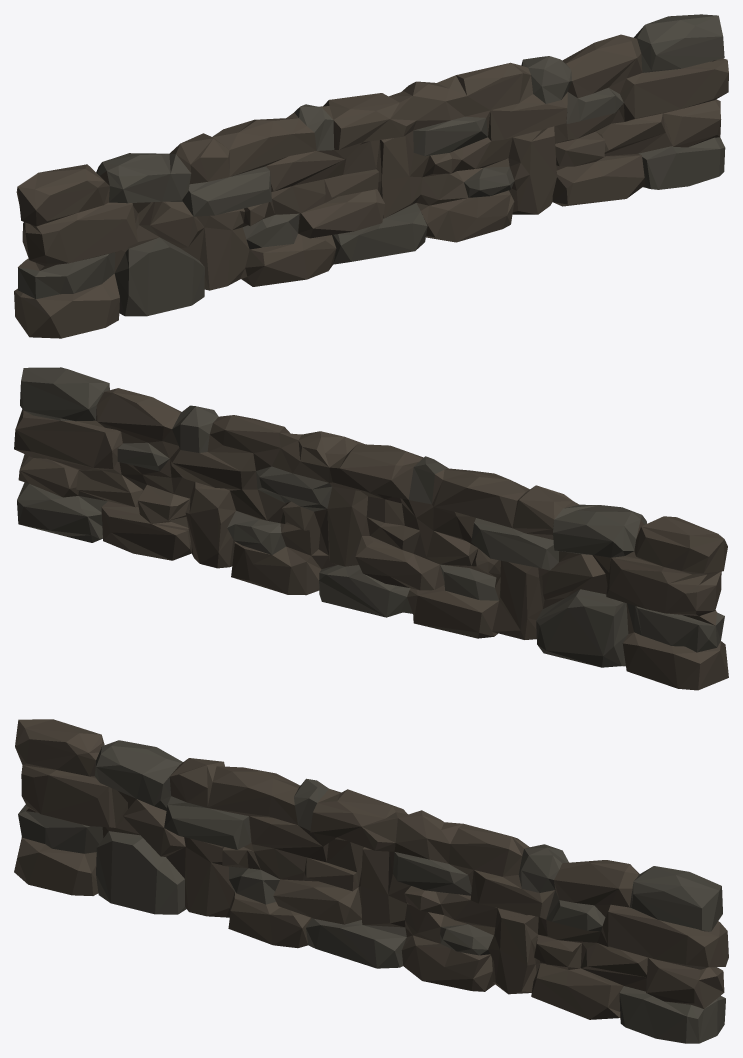
File: source.gltf
3 views of the same model, one above another, from view 1: azimuth 30°, elevation 25°; view 2: azimuth 150°, elevation 25°; view 3: azimuth 330°, elevation 25° (orthographic).
Visible parts, largest first — view 1: SM_Prop_StoneWall_01; view 2: SM_Prop_StoneWall_01; view 3: SM_Prop_StoneWall_01.
Boxes of the visible parts, x1,y1,x2,y2 form: SM_Prop_StoneWall_01: (14,14,728,338); SM_Prop_StoneWall_01: (14,367,728,690); SM_Prop_StoneWall_01: (14,719,728,1043).
Size of the model in its own units: 5.13 by 1.09 by 0.5071.
1 material, 1 textured.
